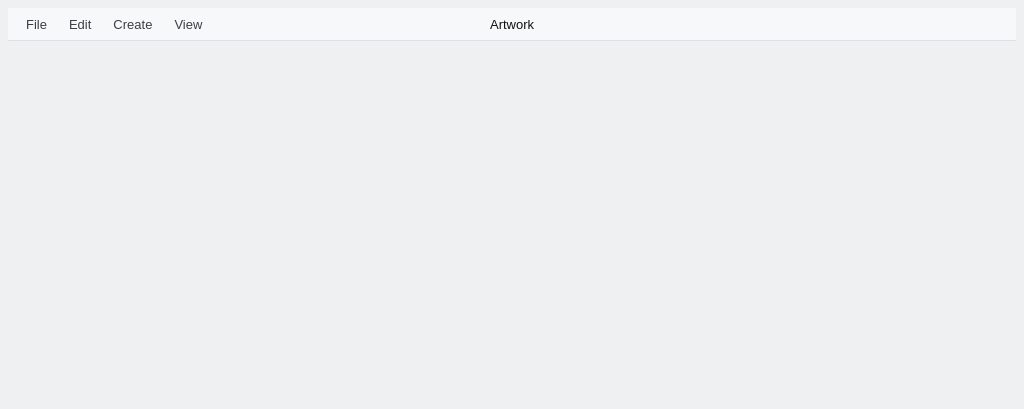
it: MenuBar › exposes browser file actions and project settings
The image size is (1024, 409).
Click the button "File" at (36, 24), box [16,12,57,36]
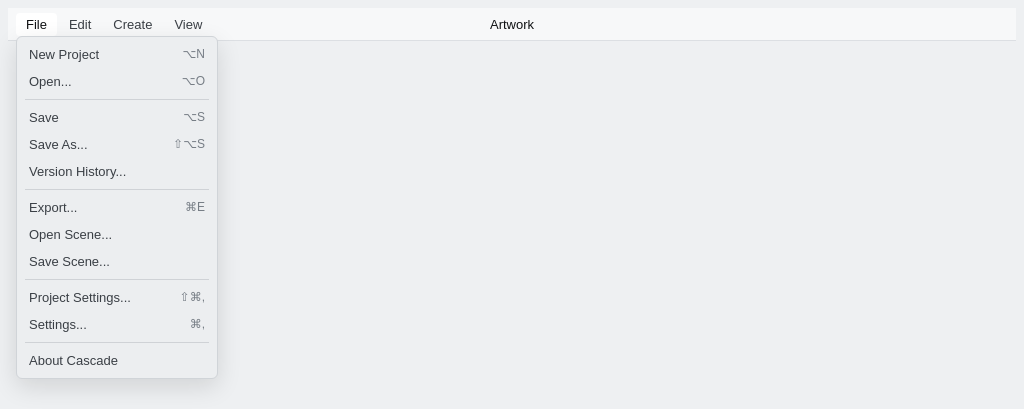
Result: the text "⌥N" is shown at [182,47,205,61]
Result: the text "⌥O" is shown at [182,74,205,88]
Result: the text "⌥S" is shown at [183,110,205,124]
